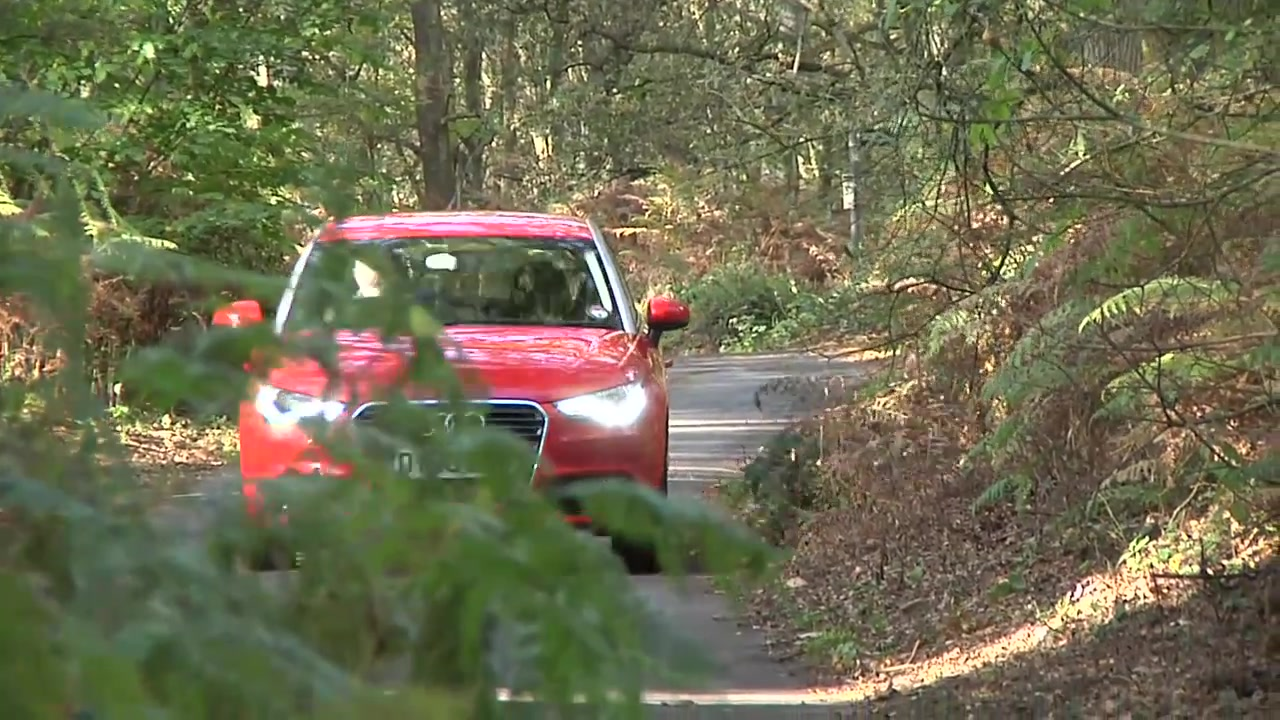car: (208, 206, 691, 580)
